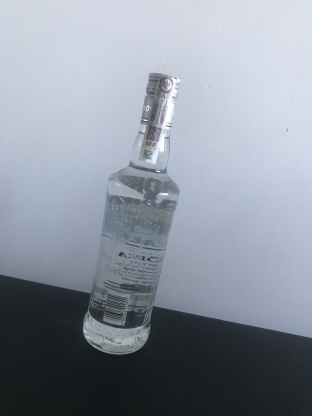nakretka: (138, 68, 182, 131)
